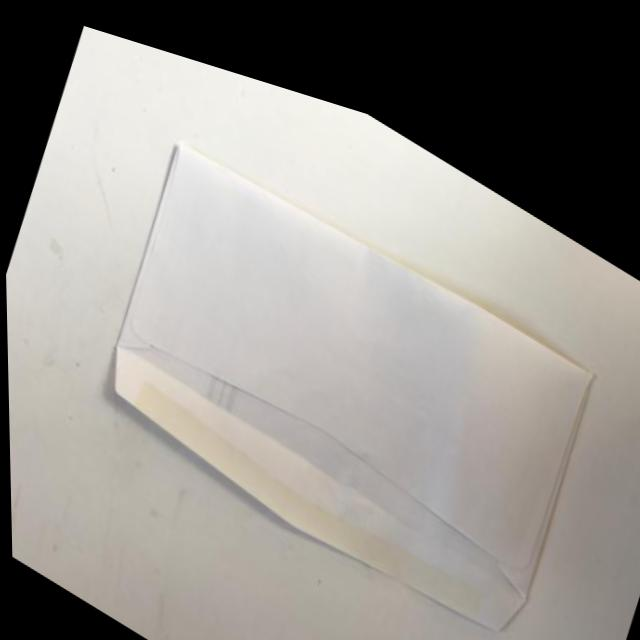paper: (29, 7, 640, 640)
